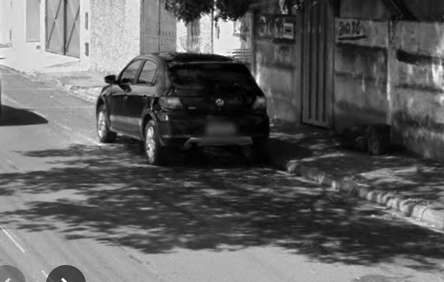car: (94, 50, 274, 168)
